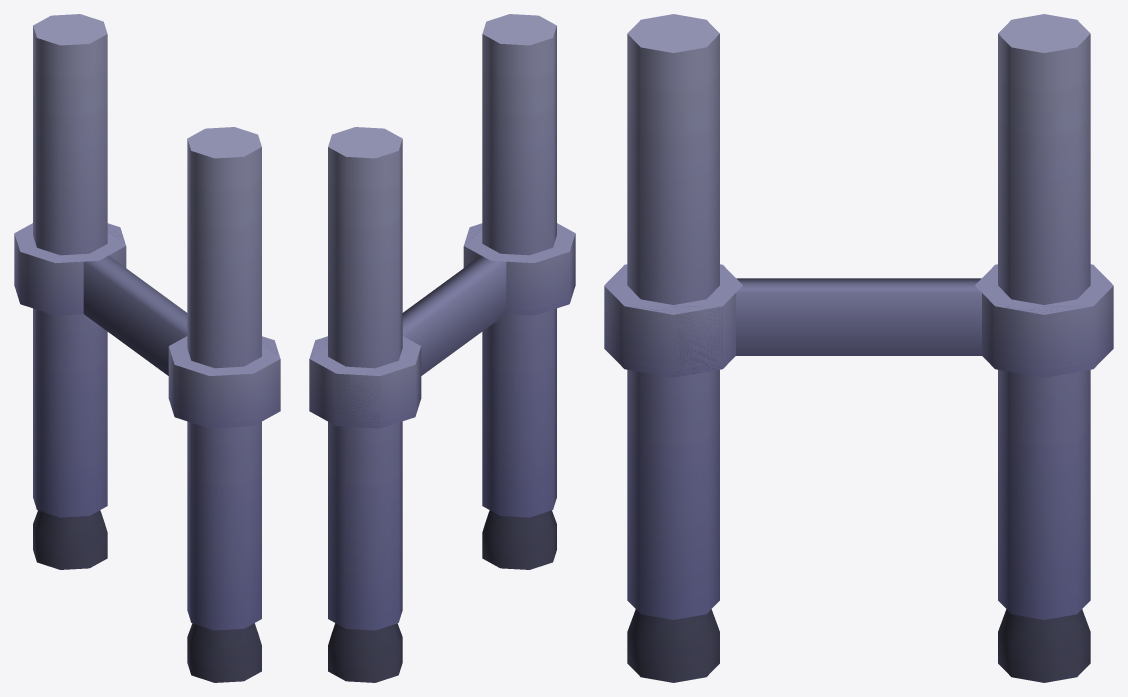
File: structure-high.glb
The picture shows the model from 3 angles, left to right: view 1: azimuth 30°, elevation 25°; view 2: azimuth 150°, elevation 25°; view 3: azimuth 270°, elevation 25°; orthographic projection. The views are drawn at different scales.
Visible parts, largest first — view 1: structure-high; view 2: structure-high; view 3: structure-high.
Boxes of the visible parts, x1,y1,x2,y2 form: structure-high: [14, 14, 280, 682]; structure-high: [309, 14, 575, 682]; structure-high: [604, 14, 1113, 682].
Size of the model in its own units: 0.2999 by 1.5 by 1.1.
Materials: 1 (1 with a texture image).
